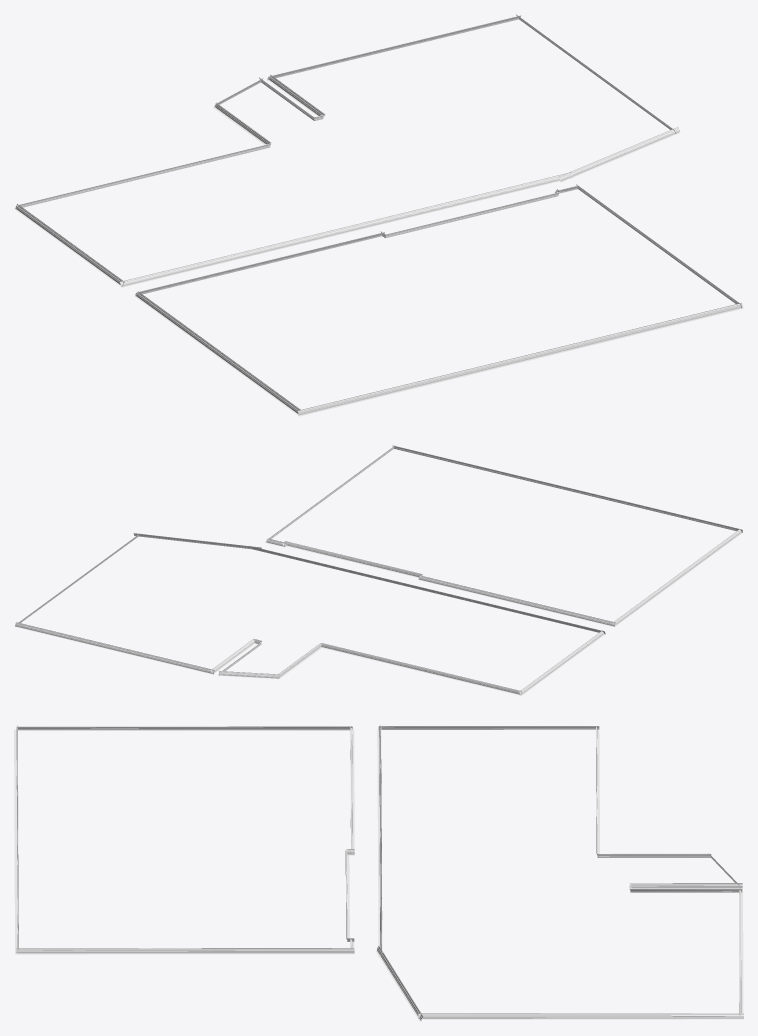
The model's file is RoomBorder.FBX.
3 views of the same model, one above another, from view 1: azimuth 30°, elevation 25°; view 2: azimuth 150°, elevation 25°; view 3: azimuth 270°, elevation 25° (orthographic). The views are drawn at different scales.
Parts seen in each view (by area): view 1: Room_border; view 2: Room_border; view 3: Room_border.
Part boxes in pixels (x1,y1,x2,y2): Room_border: [14, 14, 743, 416]; Room_border: [14, 445, 743, 695]; Room_border: [14, 725, 743, 1021].
Size of the model in its own units: 12.61 by 0.1204 by 13.35.
